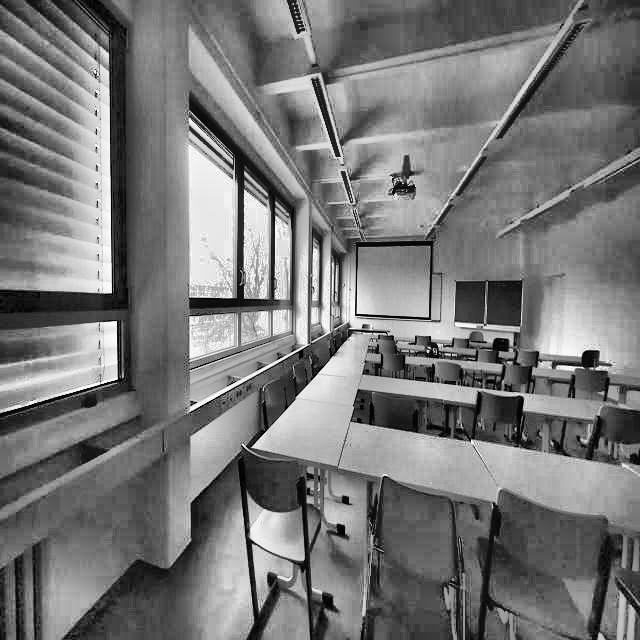ff: (104, 64, 271, 199)
